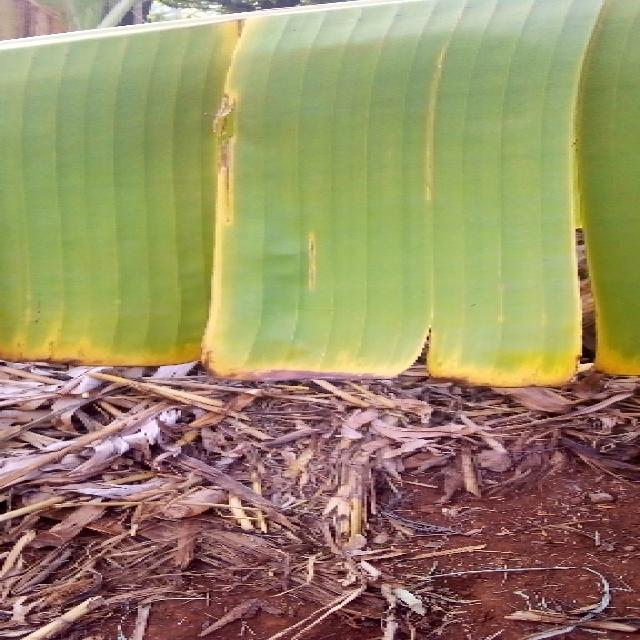Cordana: (6, 7, 640, 385)
